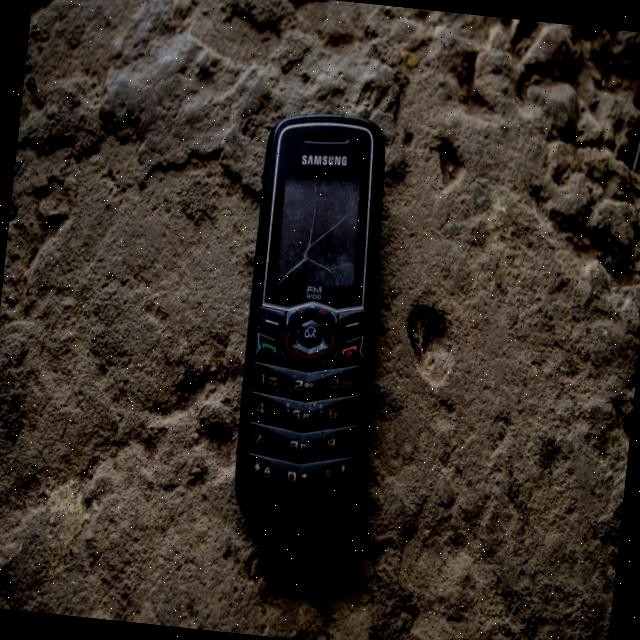Phone: (227, 105, 405, 543)
